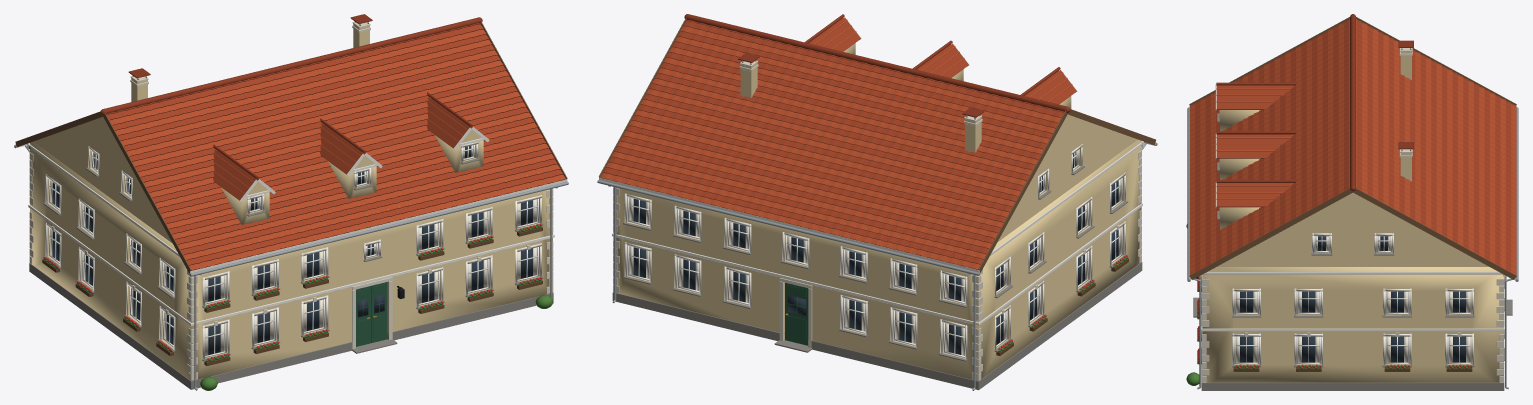
File: ZDCHouseArt.fbx
3 renders of one model, left to right at view 1: azimuth 30°, elevation 25°; view 2: azimuth 150°, elevation 25°; view 3: azimuth 270°, elevation 25°, orthographic. The views are drawn at different scales.
Parts seen in each view (by area): view 1: house_plaster, house_tile, house_tile2, house_trim, house_stone, house_glass, house_curtain, house_tile3, house2_tile2, house_stone2, house_zinc, house_soffit (+5 smaller); view 2: house_plaster, house2_tile, house_tile2, house2_tile2, house_tile, house_trim, house_stone, house_glass, house_curtain, house_tile3, house_stone2, house_zinc (+2 smaller); view 3: house_plaster, house_tile2, house_tile, house2_tile2, house2_tile, house_trim, house_stone, house_soffit, house_glass, house_tile3, house_curtain, house_stone2 (+2 smaller).
Part boxes in pixels (bbox=[...]): house_plaster: bbox=[30, 24, 552, 380]; house_tile: bbox=[106, 23, 566, 270]; house_tile2: bbox=[107, 24, 563, 265]; house_trim: bbox=[15, 127, 567, 359]; house_stone: bbox=[29, 158, 553, 389]; house_glass: bbox=[52, 146, 532, 354]; house_curtain: bbox=[50, 145, 536, 355]; house_tile3: bbox=[100, 14, 482, 179]; house2_tile2: bbox=[213, 97, 472, 200]; house_stone2: bbox=[29, 21, 553, 380]; house_zinc: bbox=[14, 145, 568, 390]; house_soffit: bbox=[15, 21, 567, 273]; house_plaster: bbox=[613, 43, 1141, 381]; house2_tile: bbox=[640, 19, 1072, 196]; house_tile2: bbox=[603, 94, 1023, 264]; house2_tile2: bbox=[649, 17, 1076, 180]; house_tile: bbox=[600, 110, 1014, 269]; house_trim: bbox=[599, 17, 1155, 359]; house_stone: bbox=[612, 166, 1142, 390]; house_glass: bbox=[633, 152, 1118, 354]; house_curtain: bbox=[629, 150, 1120, 355]; house_tile3: bbox=[684, 14, 1070, 117]; house_stone2: bbox=[613, 60, 1141, 380]; house_zinc: bbox=[597, 143, 1157, 390]; house_plaster: bbox=[1202, 51, 1503, 382]; house_tile2: bbox=[1195, 20, 1511, 272]; house_tile: bbox=[1189, 18, 1516, 275]; house2_tile2: bbox=[1216, 20, 1425, 225]; house2_tile: bbox=[1216, 18, 1441, 234]; house_trim: bbox=[1190, 84, 1516, 365]; house_stone: bbox=[1193, 113, 1512, 390]; house_soffit: bbox=[1189, 17, 1516, 279]; house_glass: bbox=[1240, 236, 1465, 362]; house_tile3: bbox=[1216, 14, 1413, 191]; house_curtain: bbox=[1235, 236, 1470, 362]; house_stone2: bbox=[1201, 48, 1504, 382].
Size of the model in its own units: 46.4 by 26.07 by 37.47.
